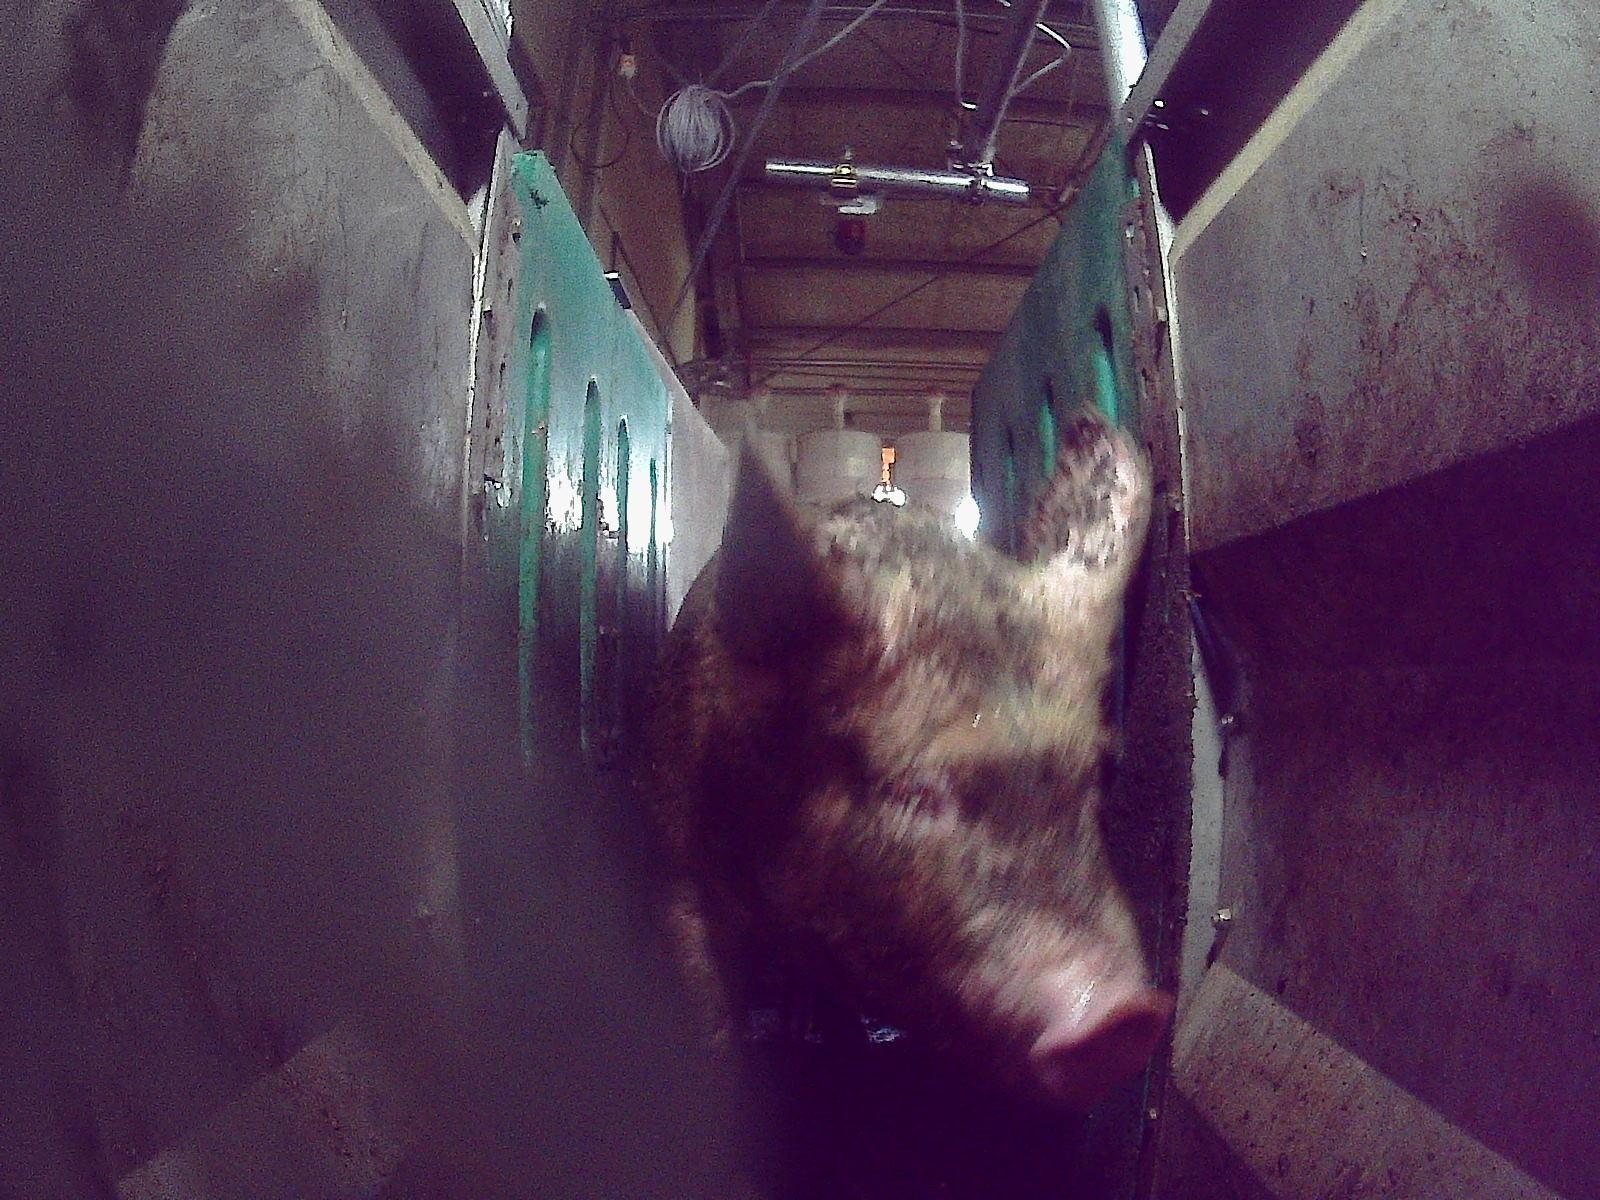Face: (716, 529, 1171, 1112)
